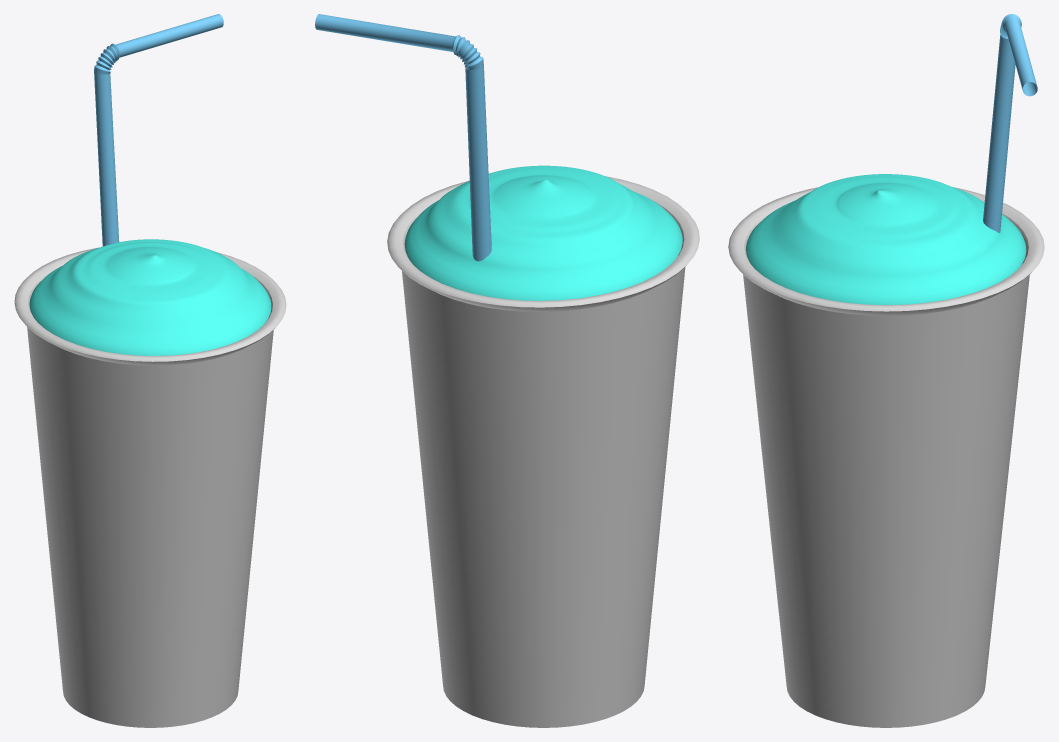
The model's file is Slush.fbx.
3 renders of one model, left to right at view 1: azimuth 30°, elevation 25°; view 2: azimuth 150°, elevation 25°; view 3: azimuth 270°, elevation 25°, orthographic. The views are drawn at different scales.
Parts seen in each view (by area): view 1: Cylinder002, Cylinder003, Cylinder004; view 2: Cylinder002, Cylinder003, Cylinder004; view 3: Cylinder002, Cylinder003, Cylinder004.
Boxes of the visible parts, bbox=[...] form: Cylinder002: bbox=[14, 247, 286, 727]; Cylinder003: bbox=[29, 239, 271, 355]; Cylinder004: bbox=[94, 14, 223, 246]; Cylinder002: bbox=[387, 176, 699, 727]; Cylinder003: bbox=[404, 165, 682, 300]; Cylinder004: bbox=[315, 14, 491, 261]; Cylinder002: bbox=[728, 187, 1044, 727]; Cylinder003: bbox=[746, 174, 1026, 304]; Cylinder004: bbox=[983, 14, 1037, 232].
Bounding box in the file's own units: 8.2 × 18.85 × 7.93.
